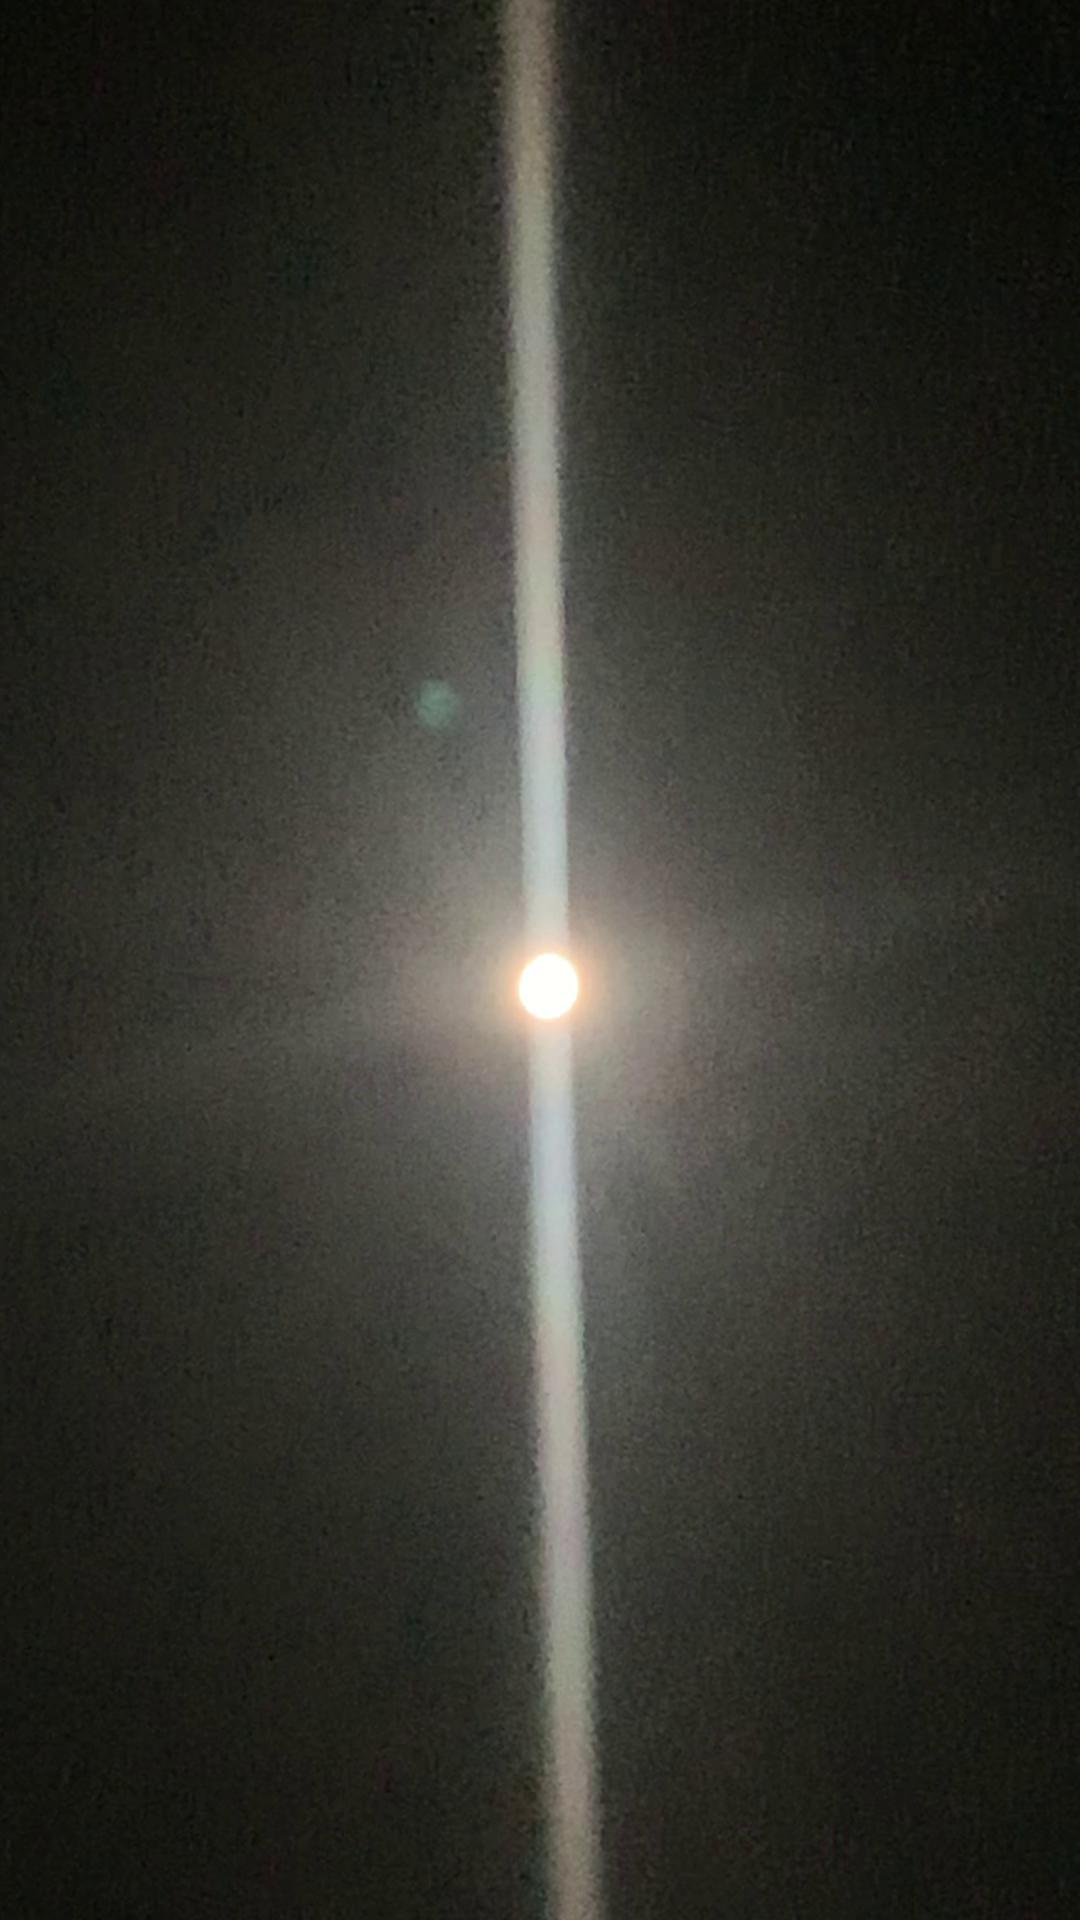moon: (487, 932, 608, 1044)
